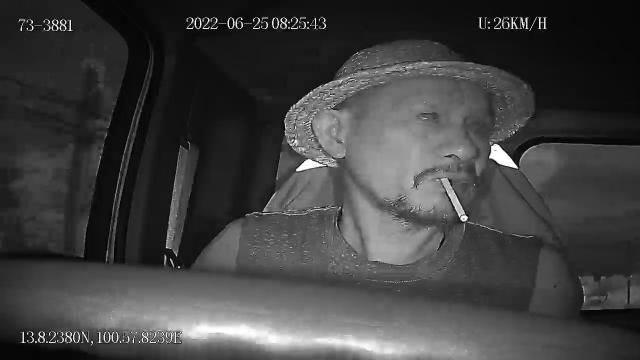Smoking: (438, 175, 467, 224)
